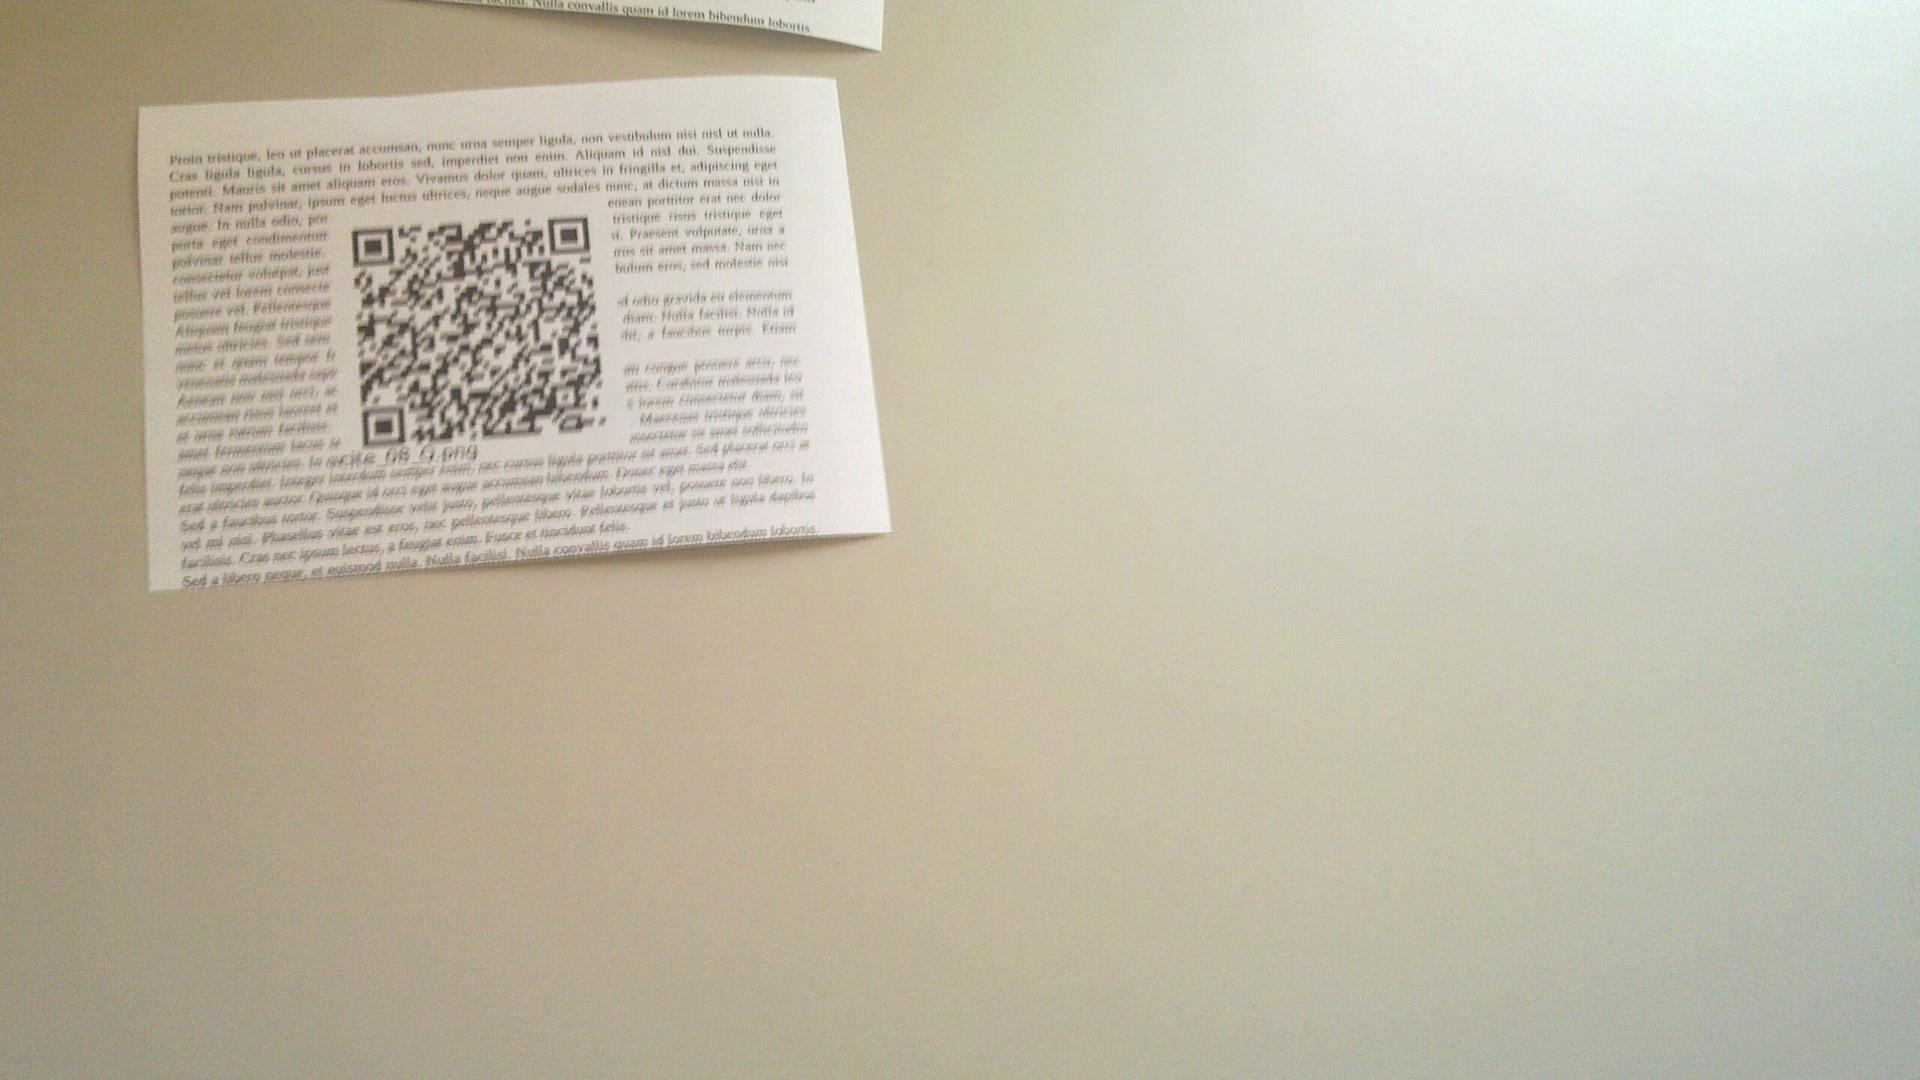Finder pattern: (345, 223, 400, 269), (356, 402, 407, 448), (545, 214, 592, 256)
